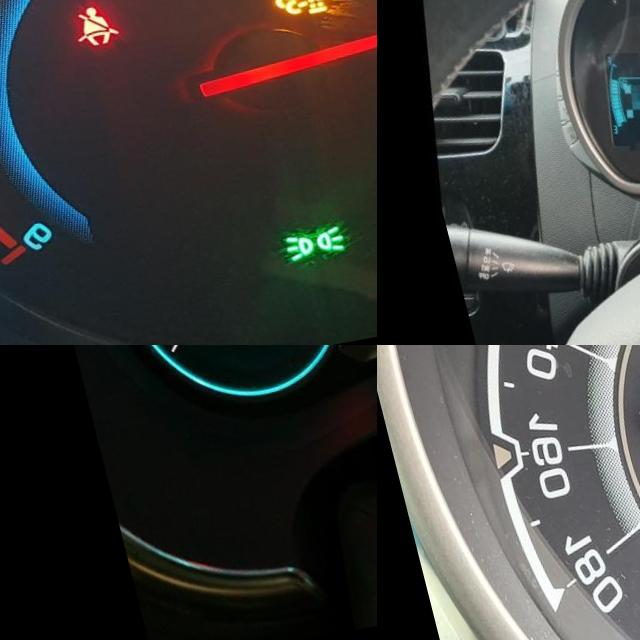SideLamp: (257, 237, 321, 275)
